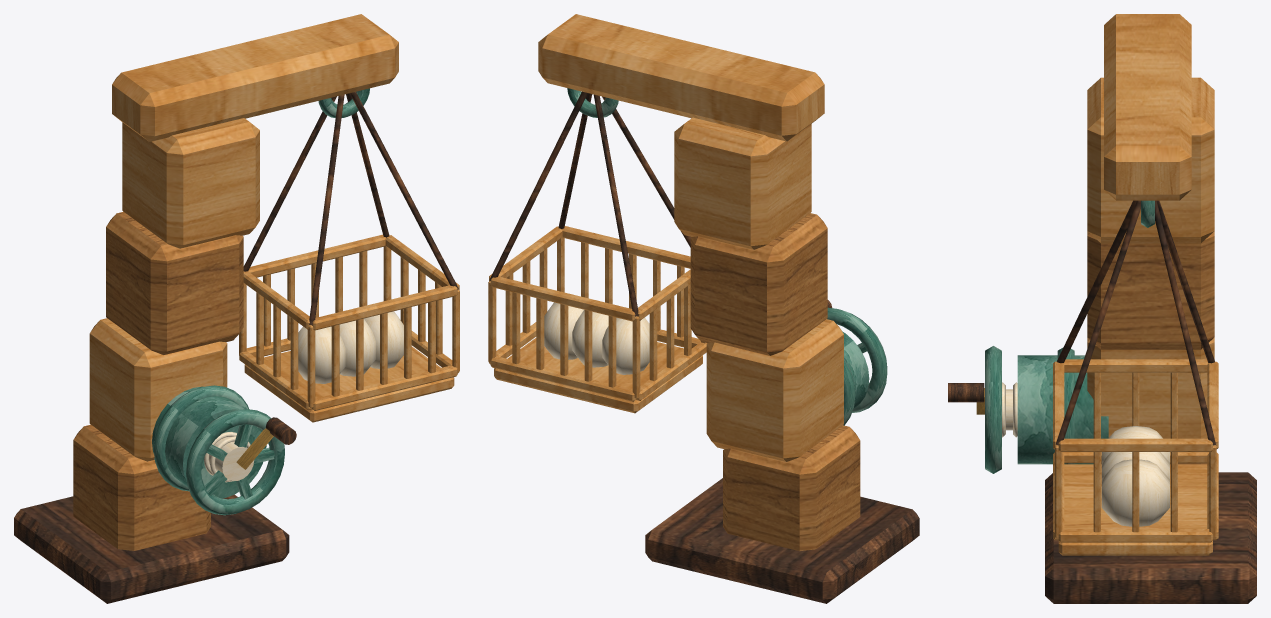
Rendered from revised-04-04.glb.
3 renders of one model, left to right at view 1: azimuth 30°, elevation 25°; view 2: azimuth 150°, elevation 25°; view 3: azimuth 270°, elevation 25°, orthographic. The views are drawn at different scales.
Visible parts, largest first — view 1: kite_dock; view 2: kite_dock; view 3: kite_dock.
Part boxes in pixels (<box>): kite_dock: <box>14,14,459,603</box>; kite_dock: <box>488,14,919,603</box>; kite_dock: <box>948,14,1256,603</box>.
Bounding box in the file's own units: 1.55 × 1.94 × 1.02.
Materials: 2 (2 with a texture image).
